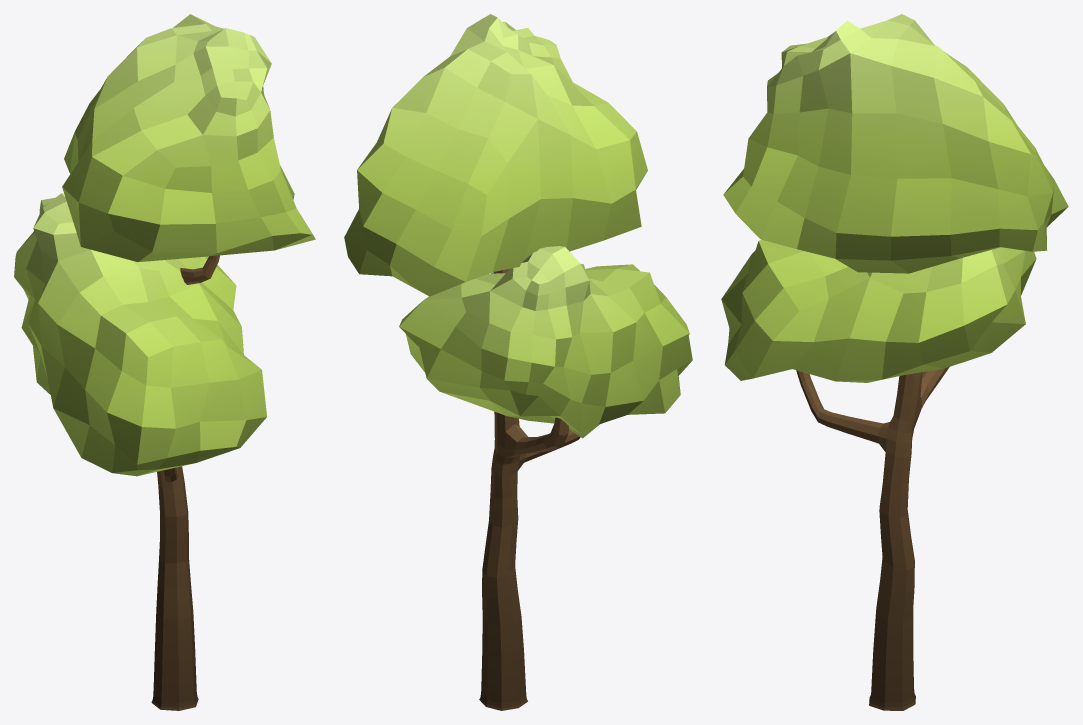
Rendered from CommonTree3.fbx.
3 renders of one model, left to right at view 1: azimuth 30°, elevation 25°; view 2: azimuth 150°, elevation 25°; view 3: azimuth 270°, elevation 25°, orthographic. The views are drawn at different scales.
Parts seen in each view (by area): view 1: CommonTree_3_Cube.001, CommonTree_3_Cube.031; view 2: CommonTree_3_Cube.001, CommonTree_3_Cube.031; view 3: CommonTree_3_Cube.001, CommonTree_3_Cube.031.
Boxes of the visible parts, left/top/right/bottom form: CommonTree_3_Cube.001: left=14, top=14, right=315, bottom=476; CommonTree_3_Cube.031: left=151, top=255, right=219, bottom=710; CommonTree_3_Cube.001: left=344, top=14, right=692, bottom=438; CommonTree_3_Cube.031: left=479, top=269, right=580, bottom=710; CommonTree_3_Cube.001: left=721, top=14, right=1068, bottom=382; CommonTree_3_Cube.031: left=796, top=367, right=949, bottom=710.
Bounding box in the file's own units: 128 × 346 × 156.
